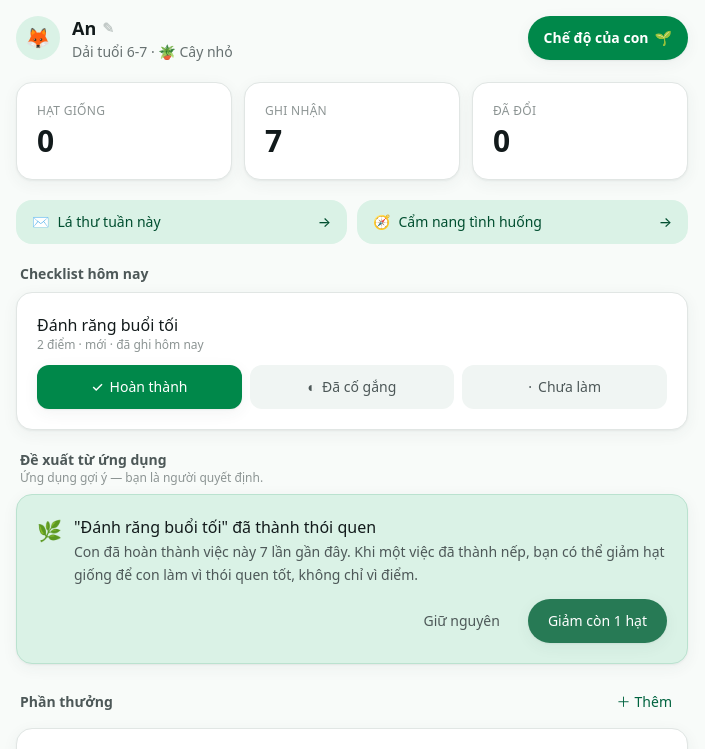
ParentDashboard — parent-confirmed proposals › applies the change on confirm and removes the handled proposal
Click the button "Giảm còn 1 hạt": click(597, 620) [528,598,667,642]
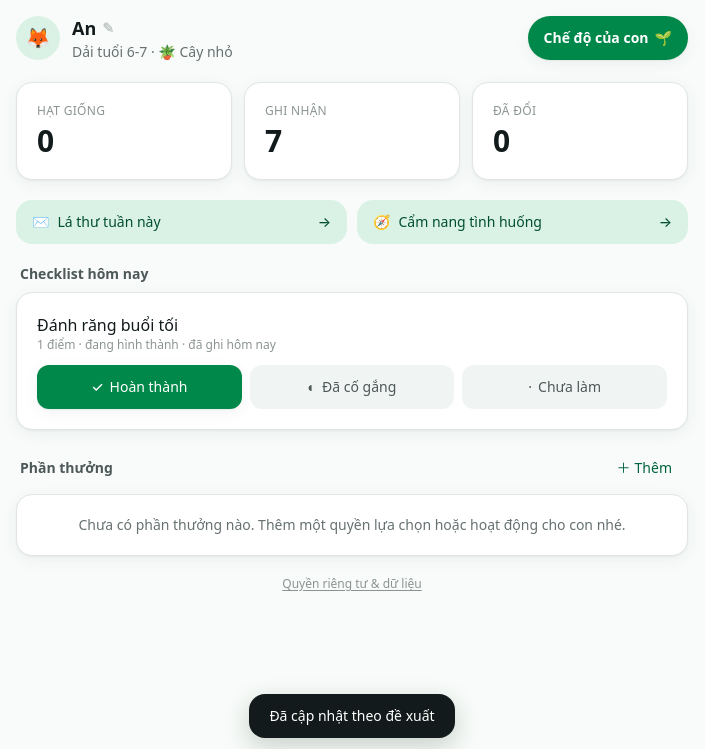
Now the text "đã thành thói quen" is gone
Now the text "1 điểm · đang hình thành · đã ghi hôm nay" is shown, box [37,337,276,353]
